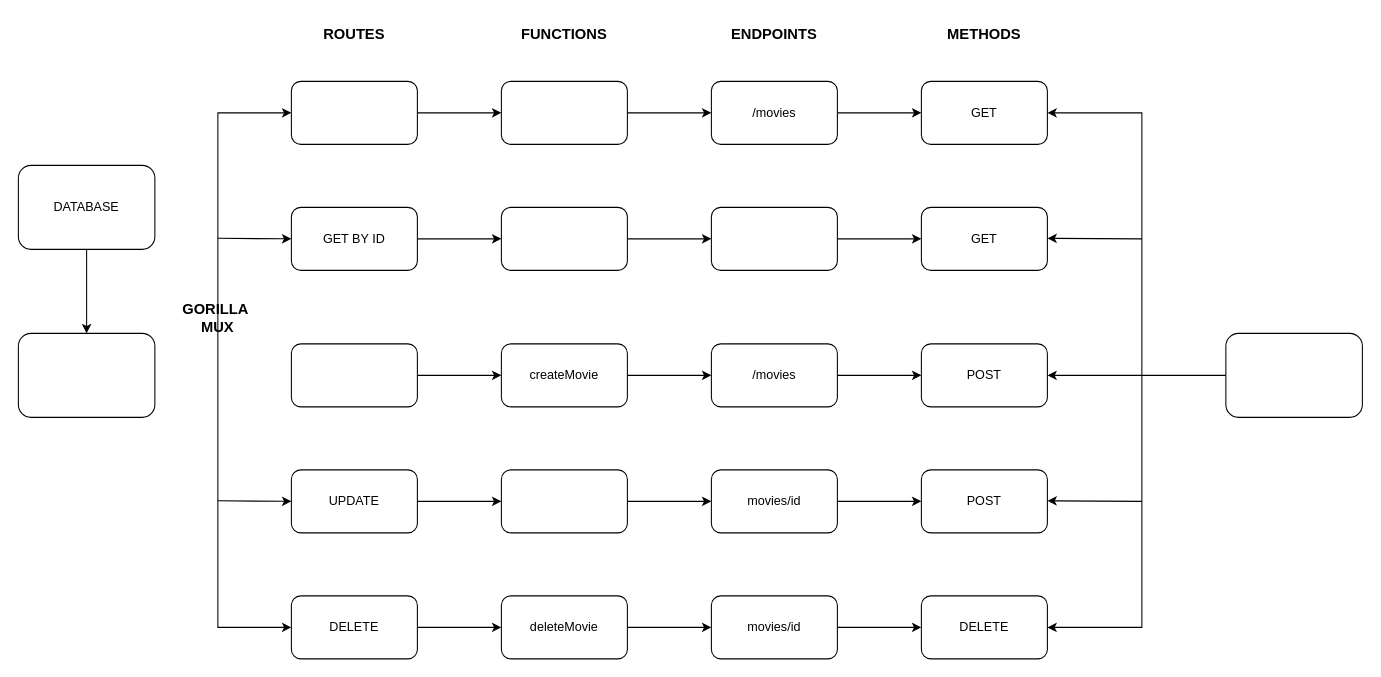
Some shapes in this 1381 by 677 pixel diagram are drawn without their labels. Here are the shapes that lost their labels. From the top down, the centre of each, then its label:
At (x=353, y=112): "GET ALL".
At (x=563, y=112): "getmovies".
At (x=563, y=238): "getMovie".
At (x=773, y=238): "/movies/id".
At (x=86, y=374): "MOVIES SERVER".
At (x=353, y=375): "CREATE".
At (x=1293, y=374): "POSTMAN".
At (x=563, y=501): "updateMovie".
